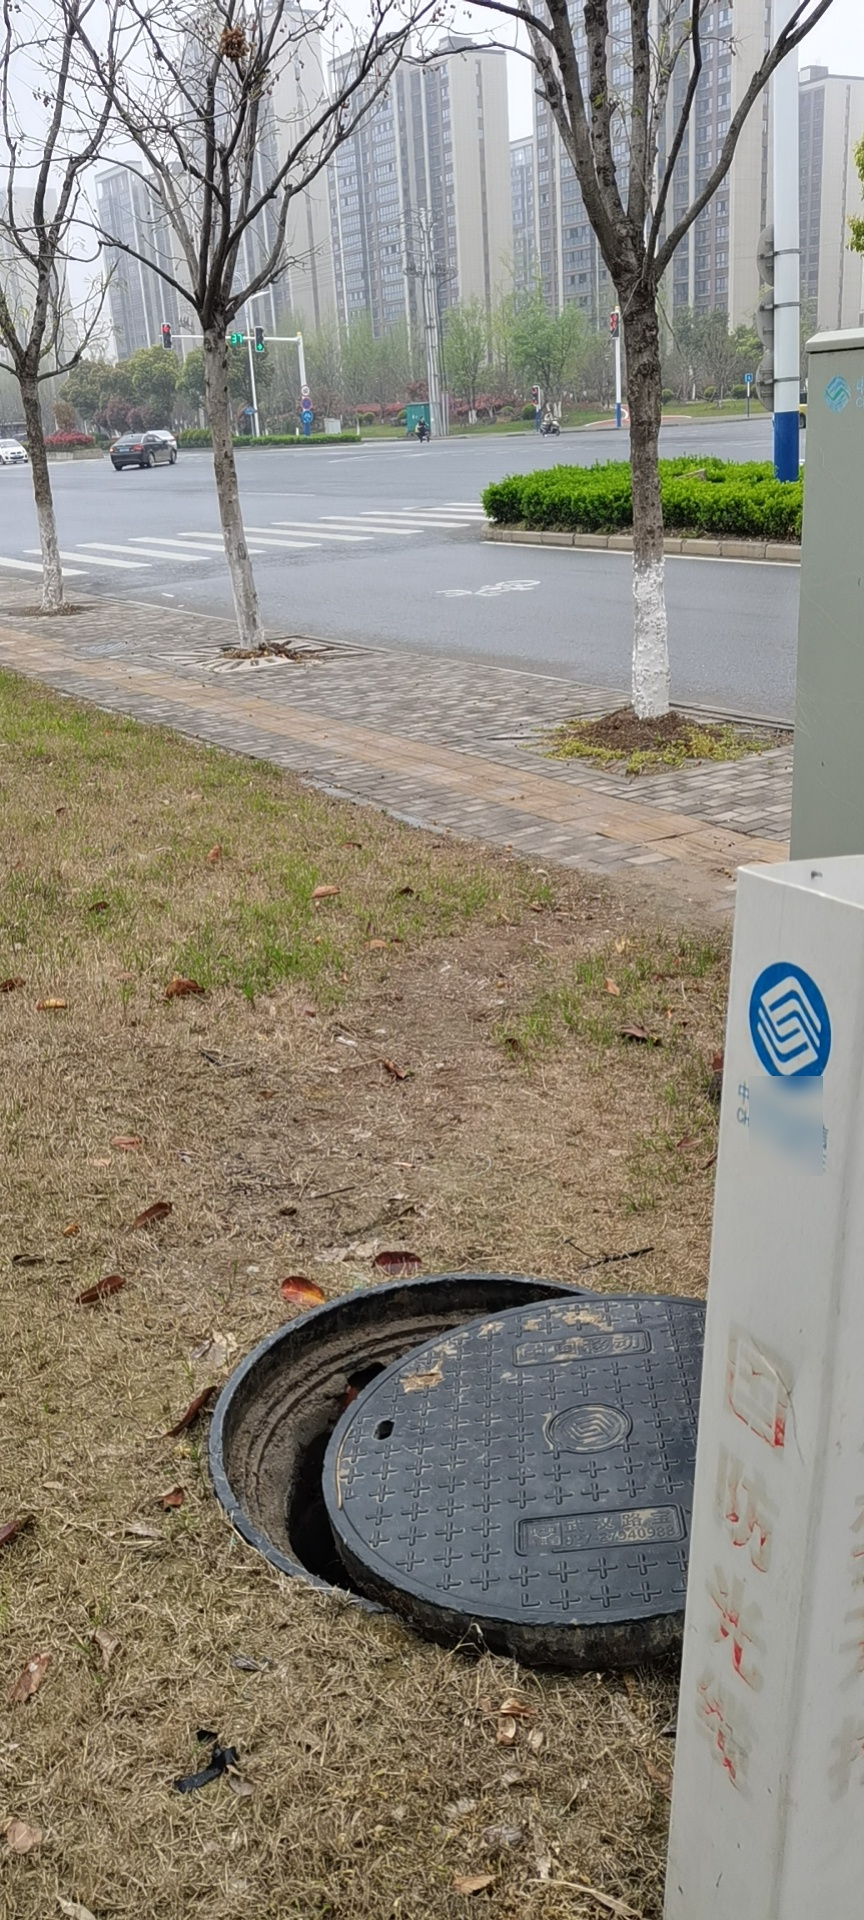well: (207, 1267, 699, 1657)
